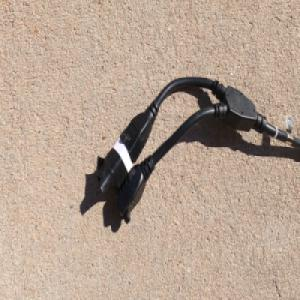Wire: (95, 76, 300, 225)
